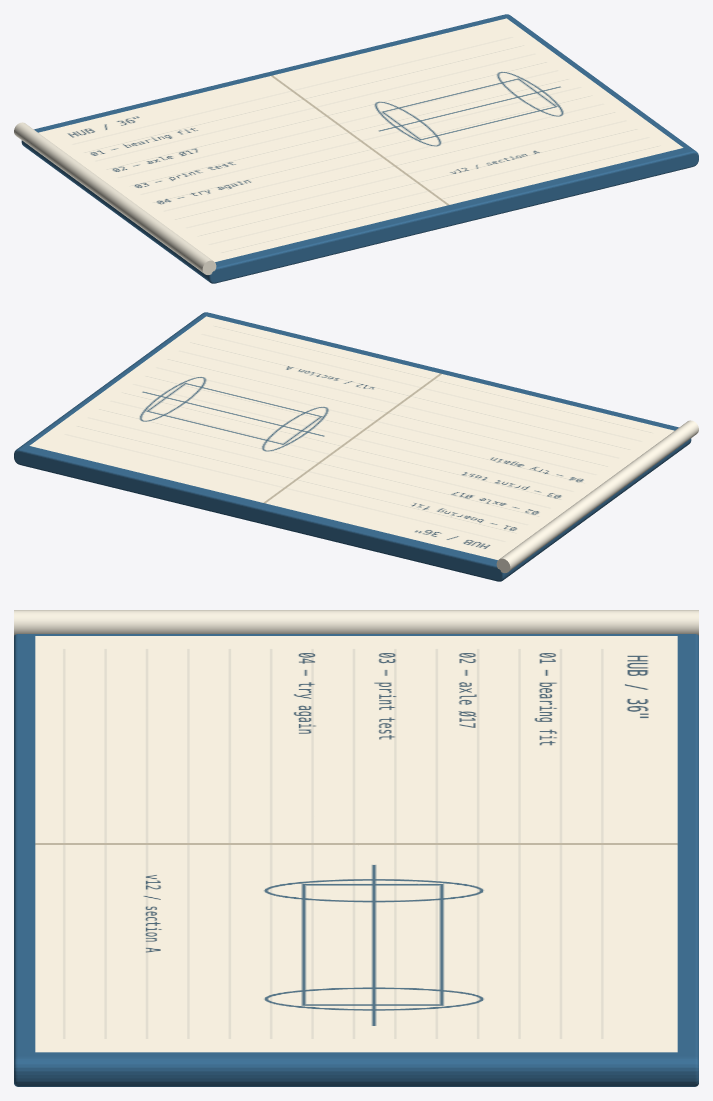
The model's file is open-notebook.glb.
3 renders of one model, top to bottom at view 1: azimuth 30°, elevation 25°; view 2: azimuth 150°, elevation 25°; view 3: azimuth 270°, elevation 25°, orthographic. The views are drawn at different scales.
Parts seen in each view (by area): view 1: open-notebook; view 2: open-notebook; view 3: open-notebook.
Part boxes in pixels (left/top/right/bottom): open-notebook: left=14, top=14, right=698, bottom=283; open-notebook: left=14, top=312, right=698, bottom=581; open-notebook: left=14, top=610, right=698, bottom=1086.
Size of the model in its own units: 0.73 by 0.035 by 0.48.
3 materials, 1 textured.
